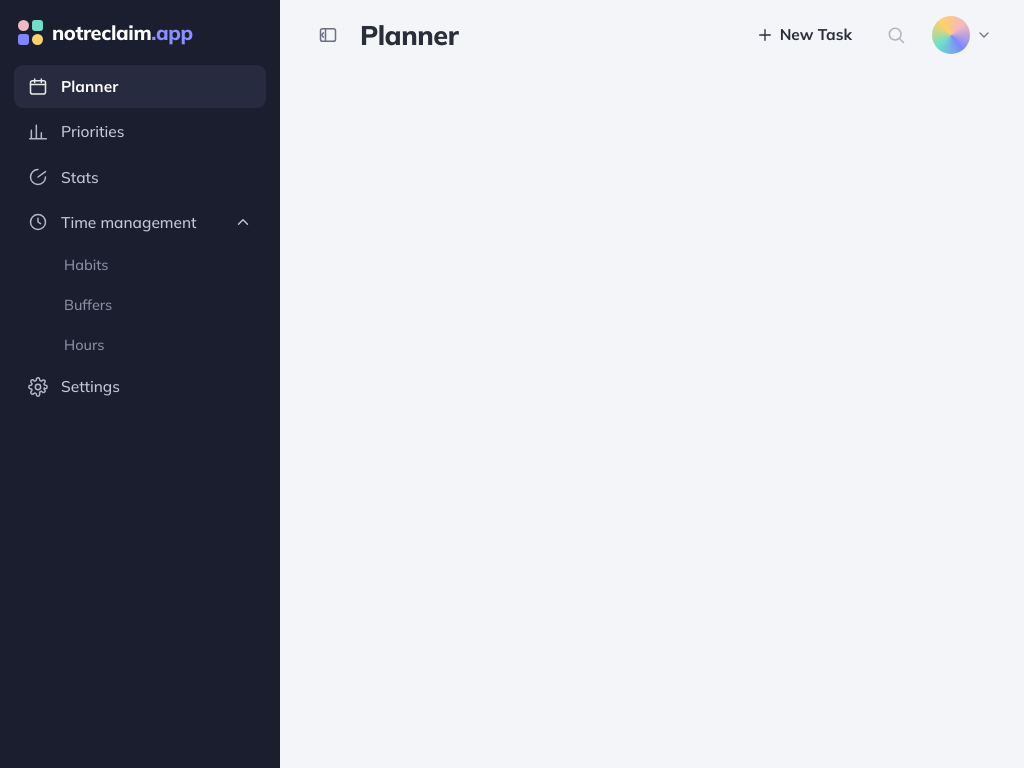
AppShell sidebar toggle › shows the sidebar again when toggled a second time
Step 1. Click the button with test id "toggle-sidebar" → click(328, 35), box [310,17,346,53]
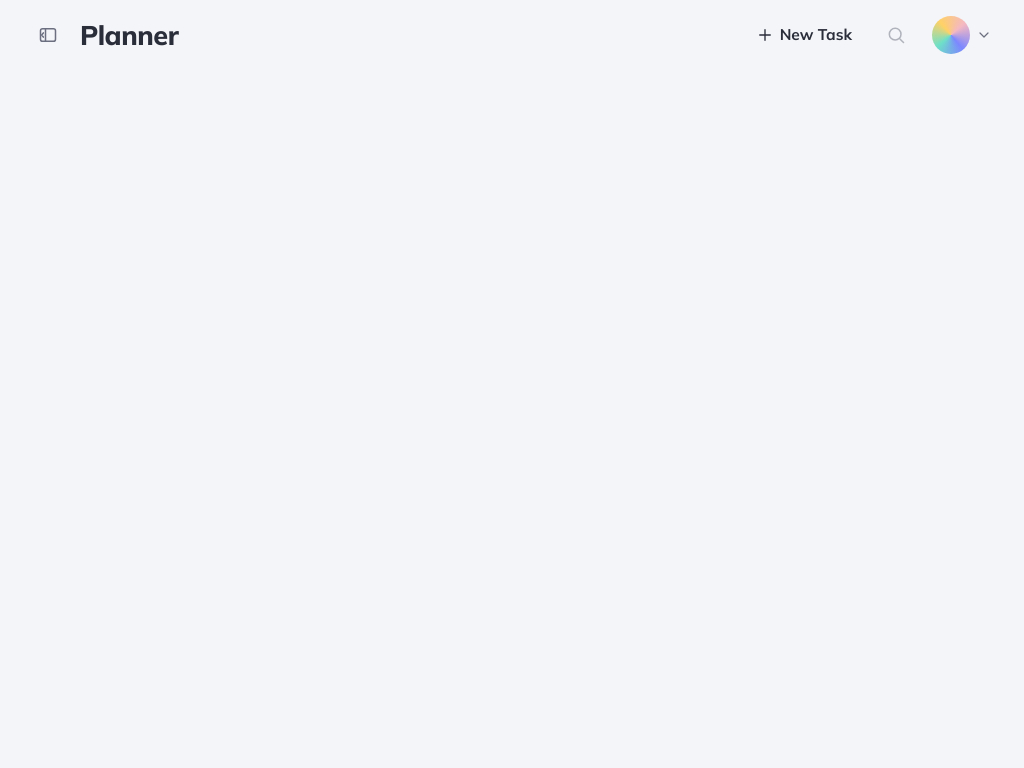
Result: the element with test id "sidebar" is gone
Step 2. Click the button with test id "toggle-sidebar" → click(48, 35), box [30,17,66,53]
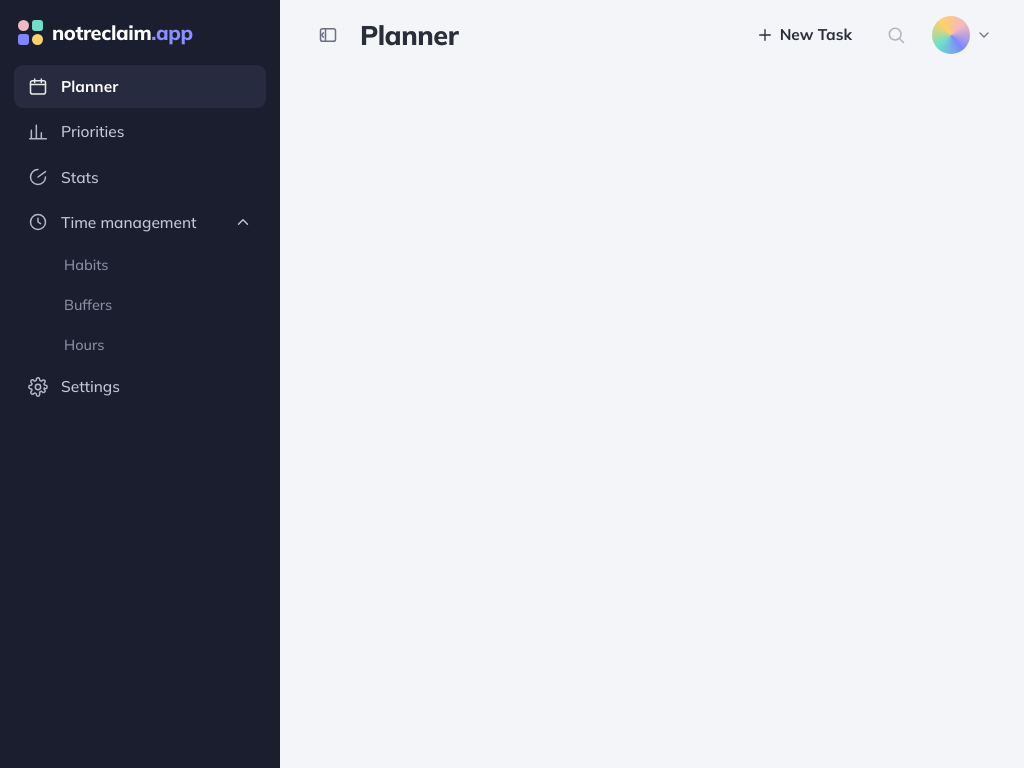
Result: the element with test id "sidebar" is shown at [0,0,280,767]
